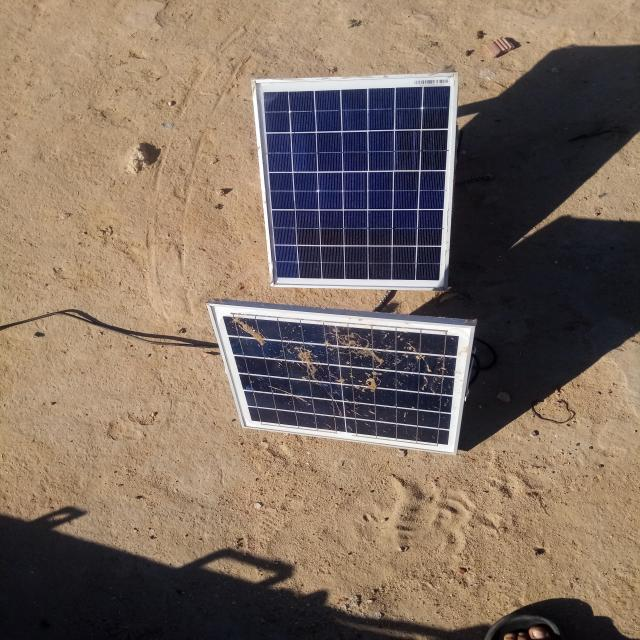faulty: (207, 305, 475, 453)
no faulty: (253, 74, 455, 289)
